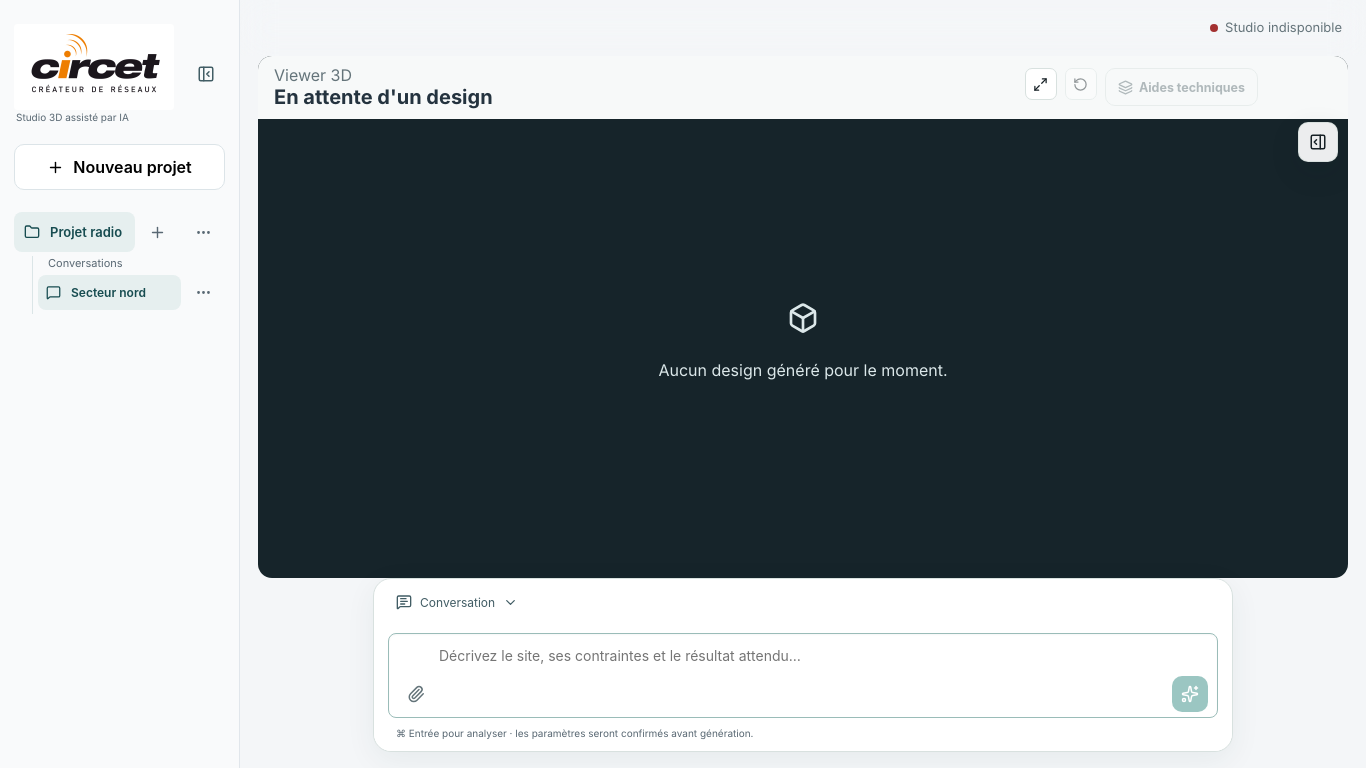
Scenario: keeps project and conversation deletion behind the matching three-dot menus
The width and height of the screenshot is (1366, 768).
Click the button "Projet radio" at (74, 232), box [14, 212, 135, 252]
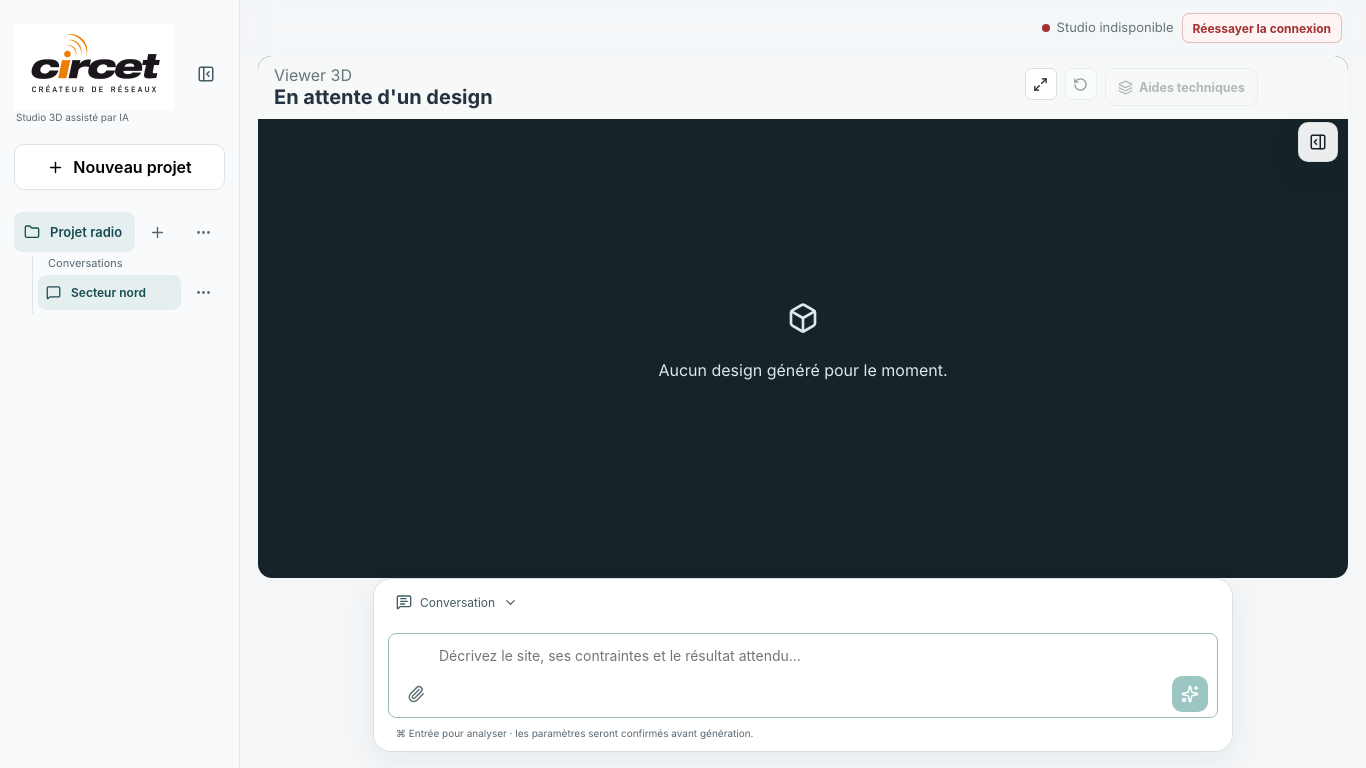
Expected: the element named "Conversations du projet Projet radio" is shown, [32, 256, 225, 314]
Expected: the button "Supprimer la conversation" is not shown
Click the button named "Options de la conversation Secteur nord" at (203, 292), box [181, 270, 225, 314]
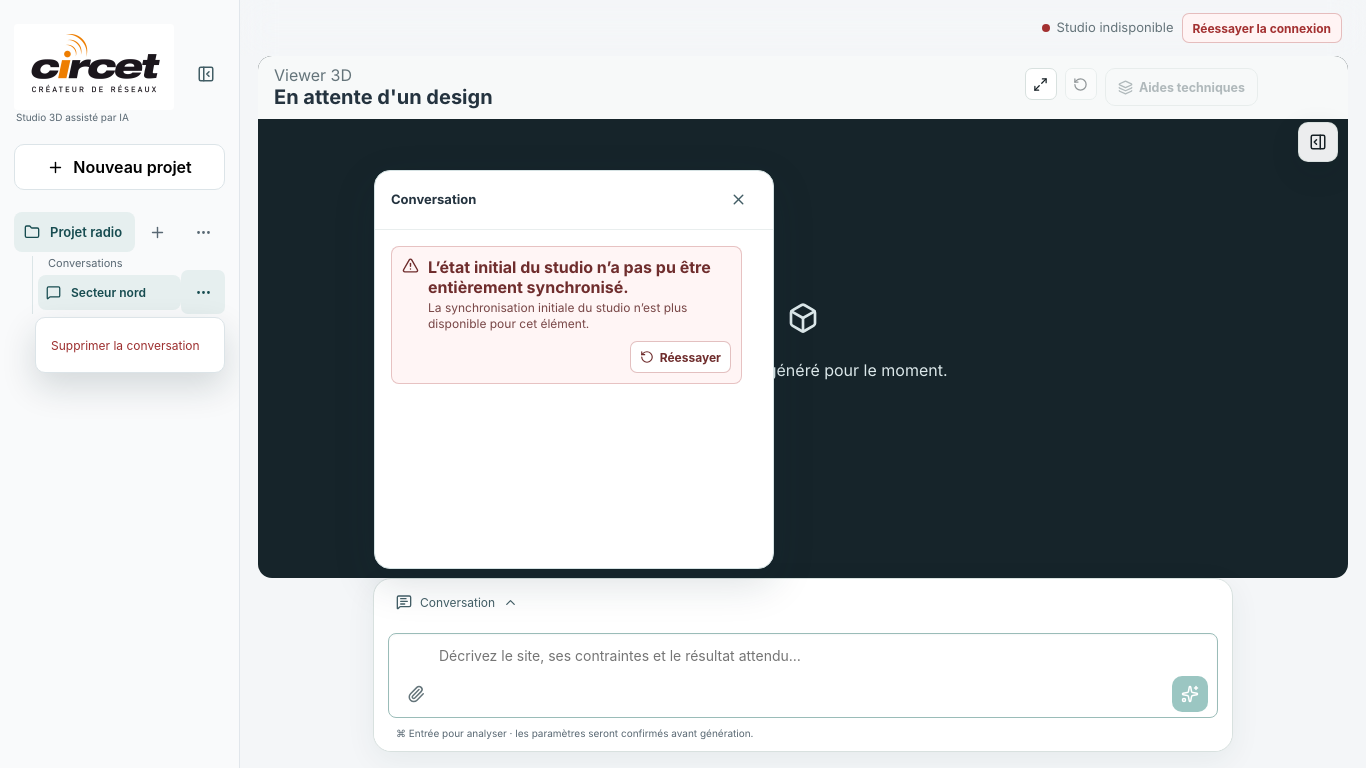
Click the button "Supprimer la conversation" at (130, 345), box [41, 323, 219, 367]
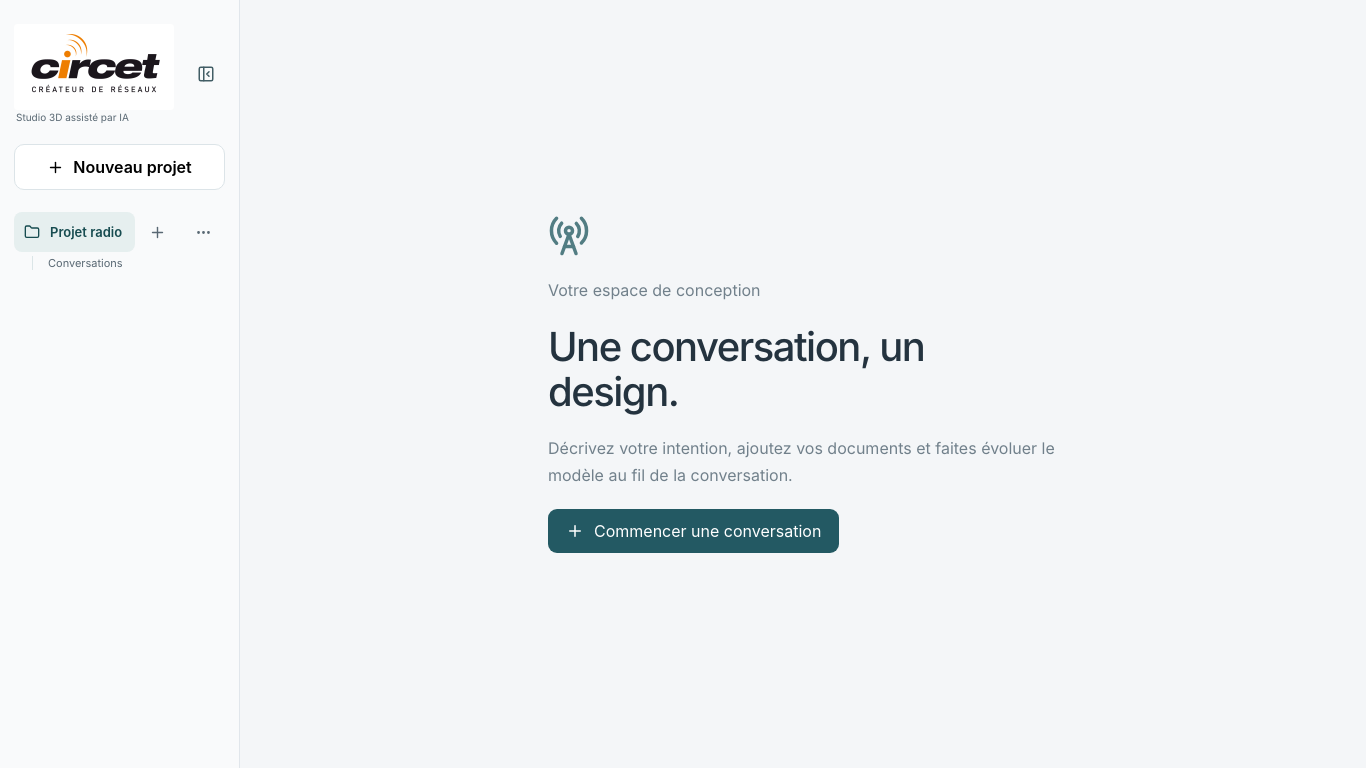
Expected: the button "Secteur nord" is gone
